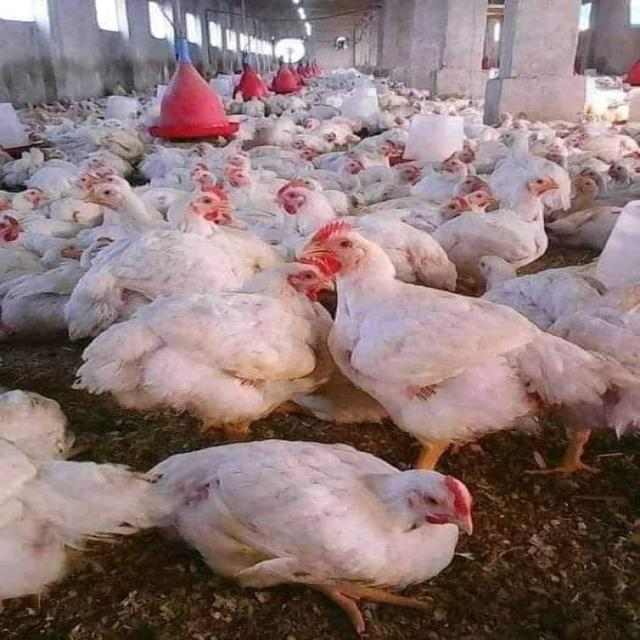Healthy: (128, 415, 488, 640), (294, 211, 608, 457)
